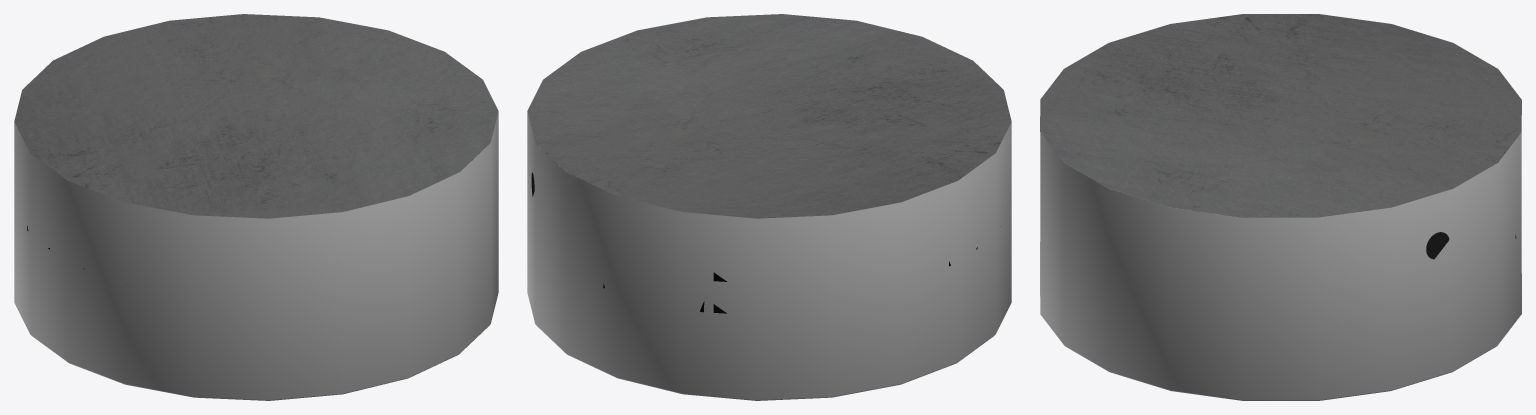
Rendered from 制御室.fbx.
3 renders of one model, left to right at view 1: azimuth 30°, elevation 25°; view 2: azimuth 150°, elevation 25°; view 3: azimuth 270°, elevation 25°, orthographic.
Parts seen in each view (by area): view 1: floor, top; view 2: floor, top; view 3: floor, top.
Boxes of the visible parts, x1=… form: floor: x1=14, y1=80, x2=498, y2=400; top: x1=14, y1=14, x2=498, y2=218; floor: x1=527, y1=80, x2=1011, y2=400; top: x1=527, y1=14, x2=1011, y2=218; floor: x1=1040, y1=132, x2=1521, y2=400; top: x1=1040, y1=14, x2=1521, y2=217.
Bounding box in the file's own units: 136 × 57.87 × 136.
